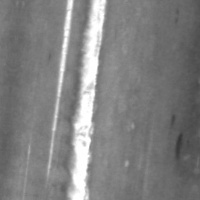inclusion: (171, 129, 187, 164)
scratches: (60, 6, 110, 199), (44, 4, 77, 183)
